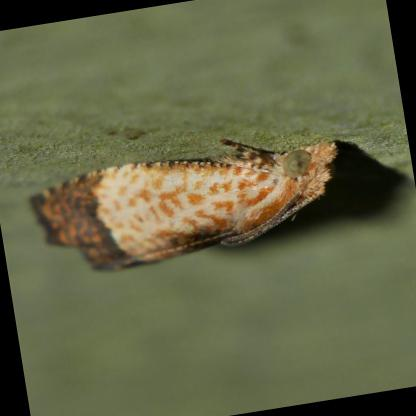Leaf Webber: (29, 134, 346, 273)
